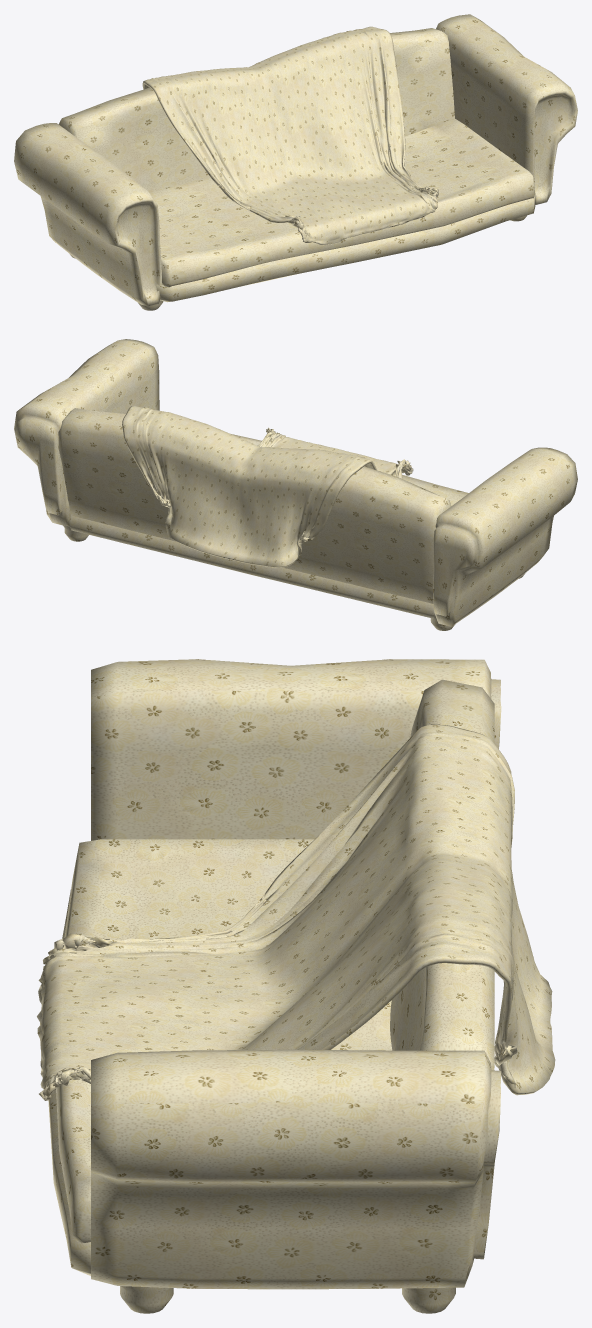
Rendered from sofalowtex.fbx.
3 views of the same model, one above another, from view 1: azimuth 30°, elevation 25°; view 2: azimuth 150°, elevation 25°; view 3: azimuth 270°, elevation 25° (orthographic). The views are drawn at different scales.
Visible parts, largest first — view 1: Cylinder, Plane; view 2: Cylinder, Plane; view 3: Cylinder, Plane.
Boxes of the visible parts, x1,y1,x2,y2 form: Cylinder: (14,14,577,310); Plane: (142,26,438,245); Cylinder: (14,339,577,630); Plane: (122,406,413,567); Cylinder: (48,659,501,1313); Plane: (37,724,555,1100).
Bounding box in the file's own units: 222 × 67.51 × 106.
2 materials, 2 textured.
